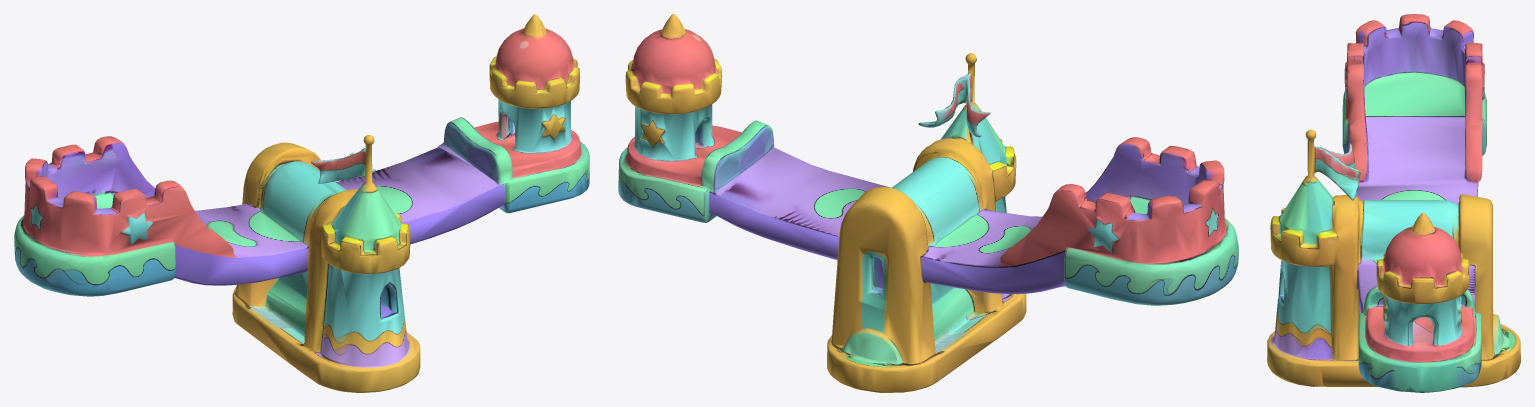
Rendered from static.glb.
The picture shows the model from 3 angles, left to right: view 1: azimuth 30°, elevation 25°; view 2: azimuth 150°, elevation 25°; view 3: azimuth 270°, elevation 25°; orthographic projection. The views are drawn at different scales.
Visible parts, largest first — view 1: Mesh_0; view 2: Mesh_0; view 3: Mesh_0.
Part boxes in pixels (<box>): Mesh_0: <box>14,14,589,392</box>; Mesh_0: <box>618,14,1238,392</box>; Mesh_0: <box>1267,14,1520,392</box>.
Bounding box in the file's own units: 1.89 × 0.8697 × 0.7573.
Materials: 1 (1 with a texture image).
